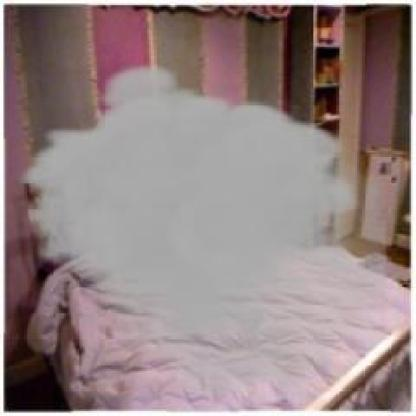Smoke: (19, 61, 387, 411)
